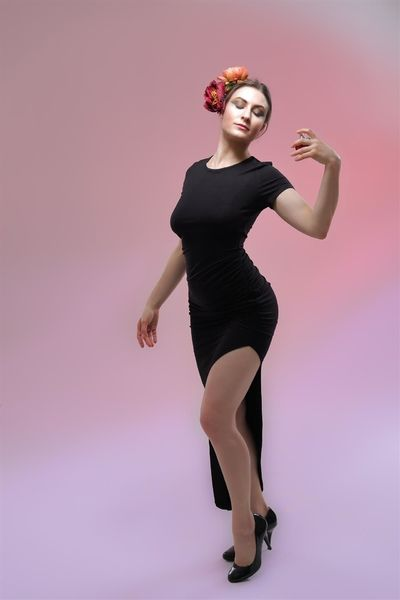person: (131, 63, 357, 600)
